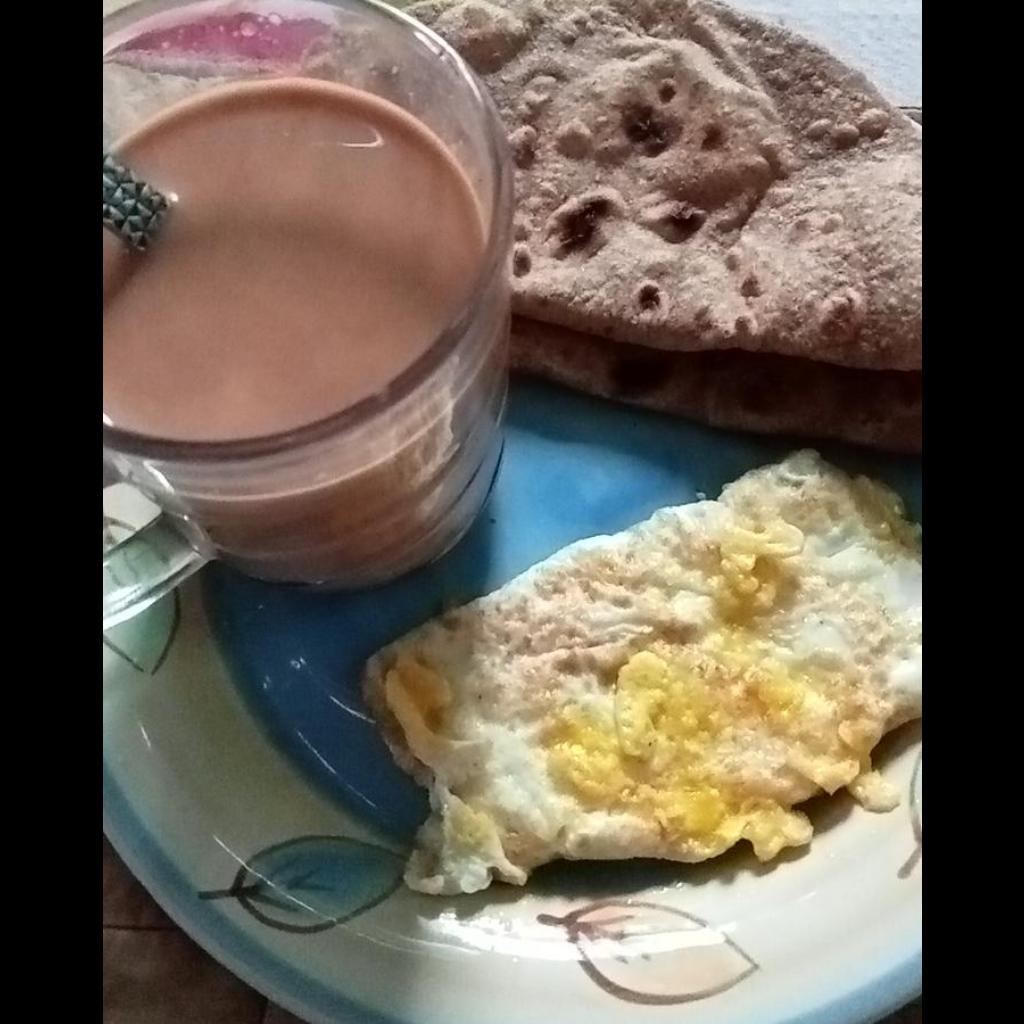cha: (102, 87, 479, 440)
egg-poached: (363, 452, 920, 895)
ruti: (416, 0, 920, 456)
